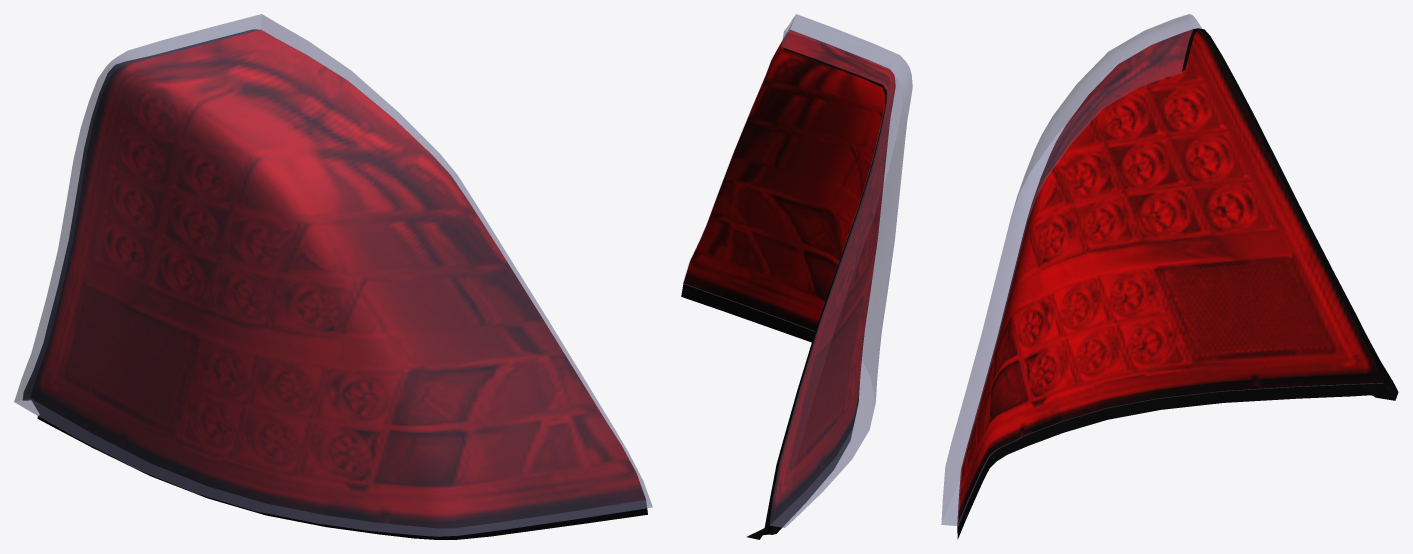
3 views of the same model, side by side, from view 1: azimuth 30°, elevation 25°; view 2: azimuth 150°, elevation 25°; view 3: azimuth 270°, elevation 25° (orthographic). The views are drawn at different scales.
Visible parts, largest first — view 1: H026_541C_R_H026_541C_R_2_DTaSI, H026_541C_R_1_N_H026_541C_R, H026_541C_R_H026_541C_R_3_D; view 2: H026_541C_R_1_N_H026_541C_R, H026_541C_R_H026_541C_R_2_DTaSI, H026_541C_R_H026_541C_R_3_D; view 3: H026_541C_R_1_N_H026_541C_R, H026_541C_R_H026_541C_R_2_DTaSI, H026_541C_R_H026_541C_R_3_D.
Part boxes in pixels (x1,y1,x2,y2): H026_541C_R_H026_541C_R_2_DTaSI: [14, 14, 652, 536]; H026_541C_R_1_N_H026_541C_R: [30, 30, 645, 528]; H026_541C_R_H026_541C_R_3_D: [23, 29, 647, 539]; H026_541C_R_1_N_H026_541C_R: [683, 30, 895, 524]; H026_541C_R_H026_541C_R_2_DTaSI: [683, 14, 912, 527]; H026_541C_R_H026_541C_R_3_D: [681, 47, 886, 539]; H026_541C_R_1_N_H026_541C_R: [957, 29, 1382, 524]; H026_541C_R_H026_541C_R_2_DTaSI: [941, 14, 1382, 525]; H026_541C_R_H026_541C_R_3_D: [957, 28, 1398, 539].
Bounding box in the file's own units: 25.25 × 27.77 × 30.14.
